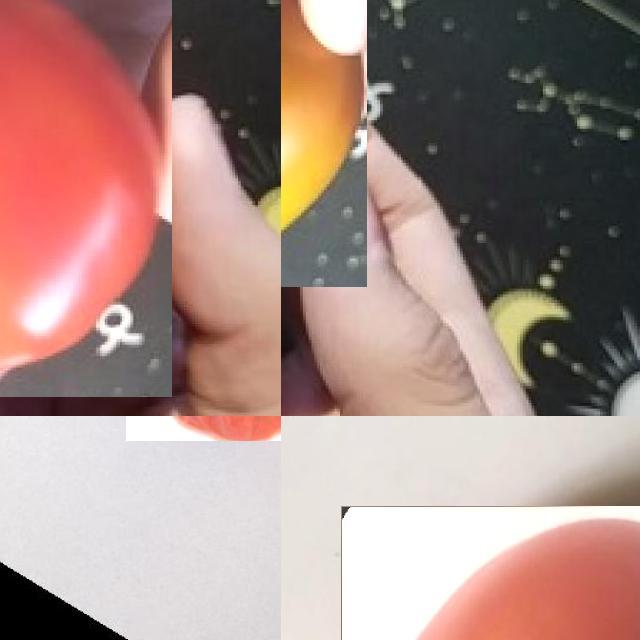Fresh Tomato: (0, 0, 172, 396), (340, 506, 640, 640)
Rotten Tomato: (281, 0, 367, 287)
